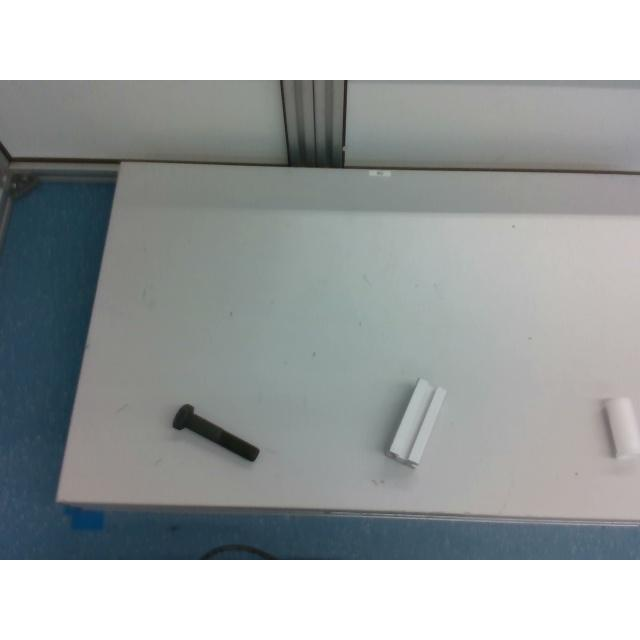M20_100: (172, 404, 260, 460)
S40_40_G: (386, 378, 446, 467)
Spacer: (604, 397, 640, 459)
